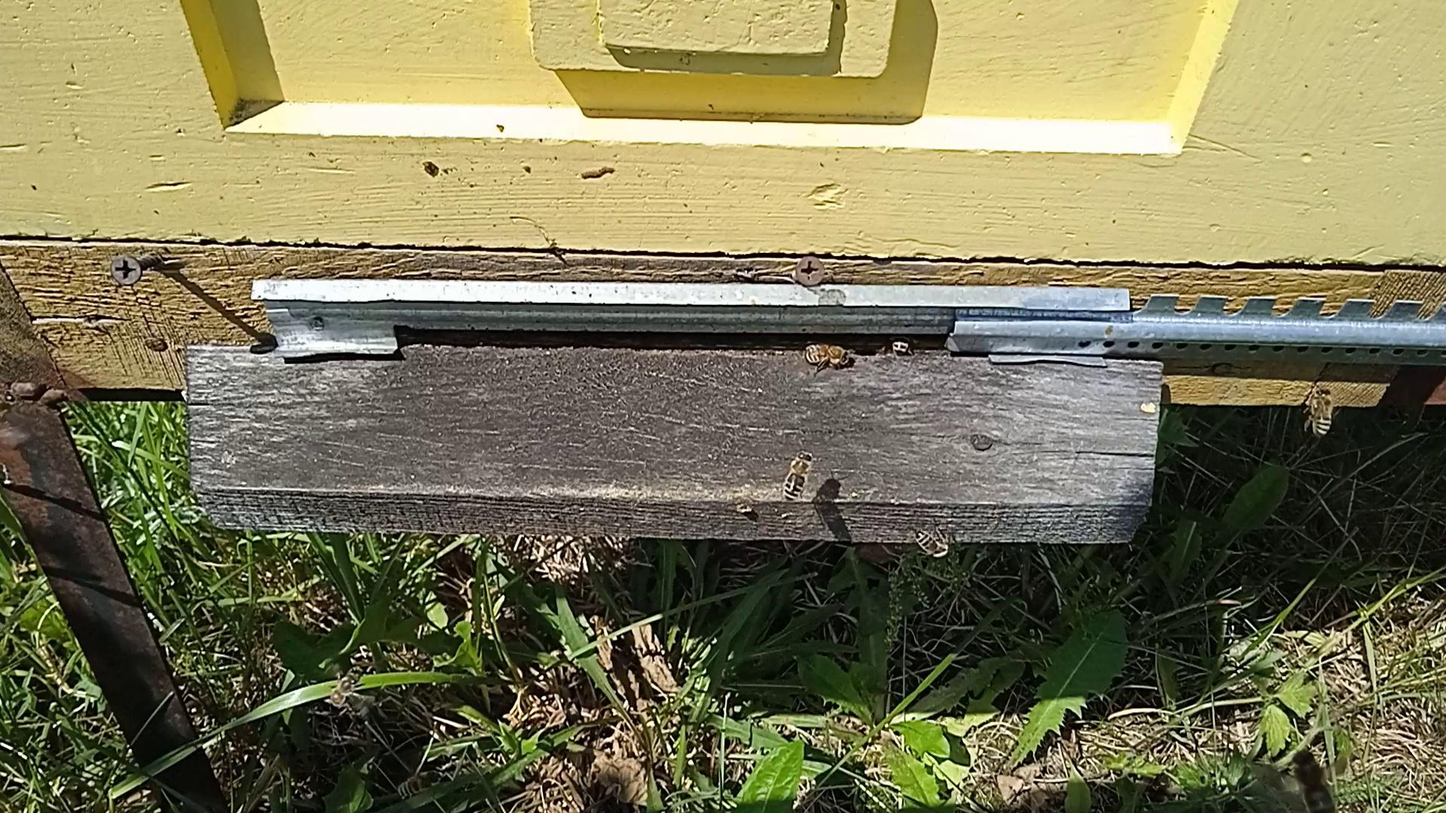worker-bee: (1285, 751, 1337, 813), (782, 449, 816, 503), (801, 340, 857, 370), (1306, 384, 1335, 438), (328, 669, 362, 708), (911, 526, 951, 557), (886, 333, 915, 358), (1, 391, 17, 417)
